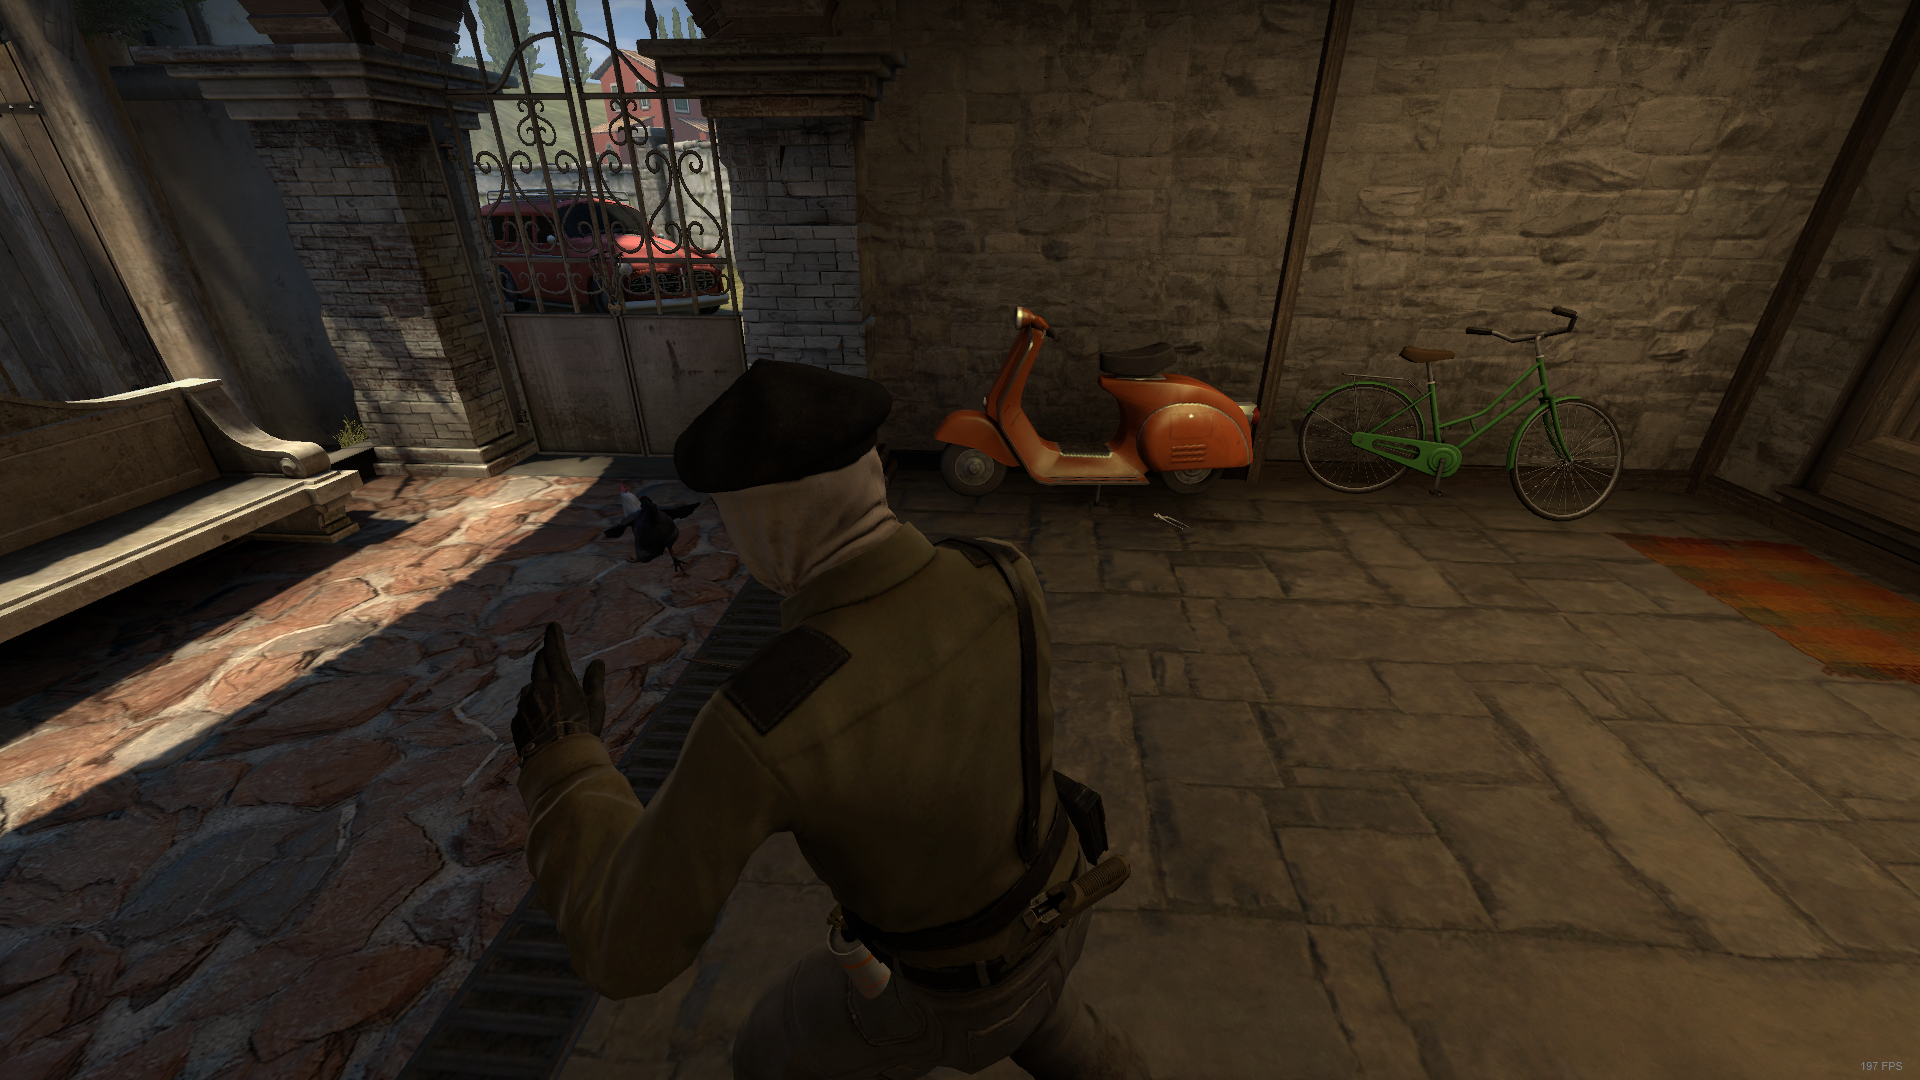t: (512, 357, 1156, 1080)
